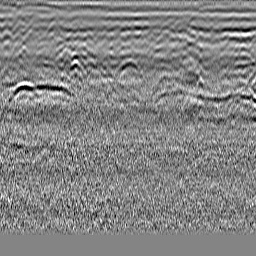cavity: (114, 55, 139, 78)
